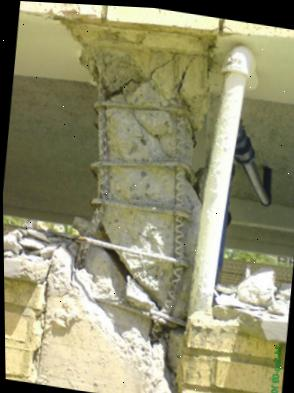exposed_rebar: (76, 89, 109, 267), (76, 235, 188, 267), (77, 236, 188, 267), (90, 197, 190, 218), (94, 100, 187, 115), (91, 159, 190, 171)
spalling: (52, 11, 233, 393)
